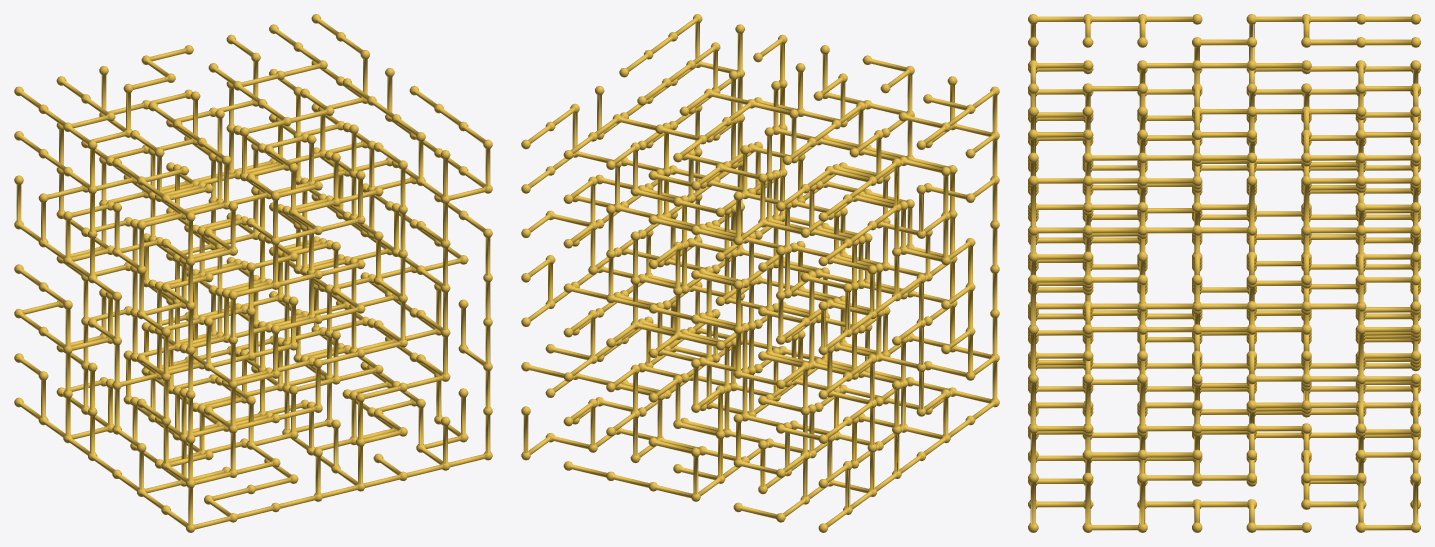
The picture shows the model from 3 angles, left to right: view 1: azimuth 30°, elevation 25°; view 2: azimuth 150°, elevation 25°; view 3: azimuth 270°, elevation 25°; orthographic projection. The views are drawn at different scales.
Parts seen in each view (by area): view 1: Percolat8X8X8; view 2: Percolat8X8X8; view 3: Percolat8X8X8.
Part boxes in pixels (x1,y1,x2,y2): Percolat8X8X8: (14, 14, 492, 532); Percolat8X8X8: (521, 14, 999, 532); Percolat8X8X8: (1028, 14, 1420, 532).
Bounding box in the file's own units: 71.93 × 71.93 × 71.93.
